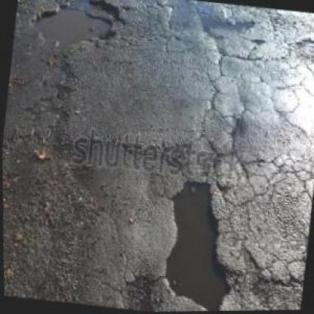Hueco: (152, 174, 243, 311), (24, 0, 123, 55), (116, 270, 158, 311), (290, 35, 314, 69)
